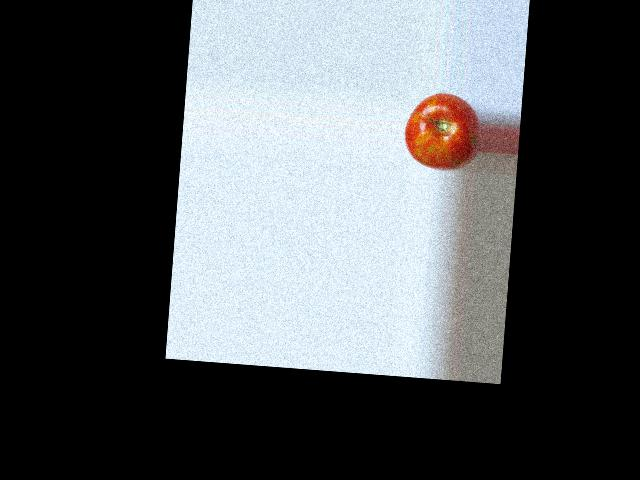tomato: (402, 90, 482, 172)
